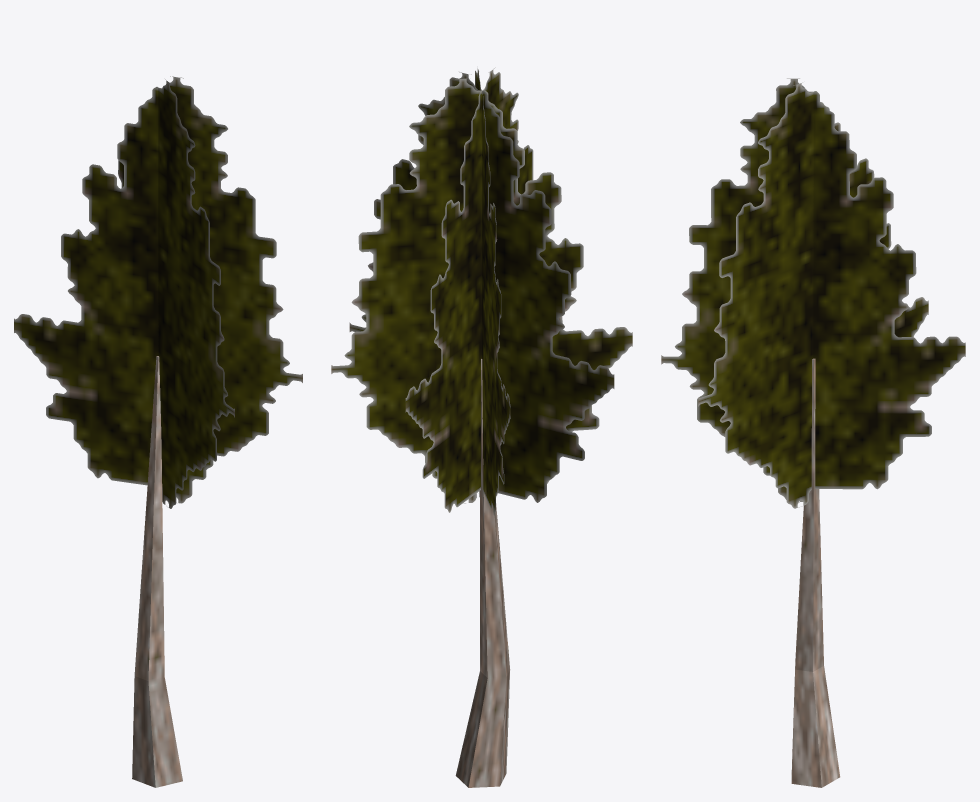
File: Green Tree 3.fbx
3 renders of one model, left to right at view 1: azimuth 30°, elevation 25°; view 2: azimuth 150°, elevation 25°; view 3: azimuth 270°, elevation 25°, orthographic.
Parts seen in each view (by area): view 1: Plane.001, Trunk.001; view 2: Plane.001, Trunk.001; view 3: Plane.001, Trunk.001.
Part boxes in pixels (x1,y1,x2,y2): Plane.001: (14, 76, 302, 508); Trunk.001: (132, 356, 182, 787); Plane.001: (331, 67, 632, 515); Trunk.001: (455, 359, 510, 787); Plane.001: (661, 78, 965, 508); Trunk.001: (791, 358, 840, 787).
Bounding box in the file's own units: 1015 × 2570 × 1015.
